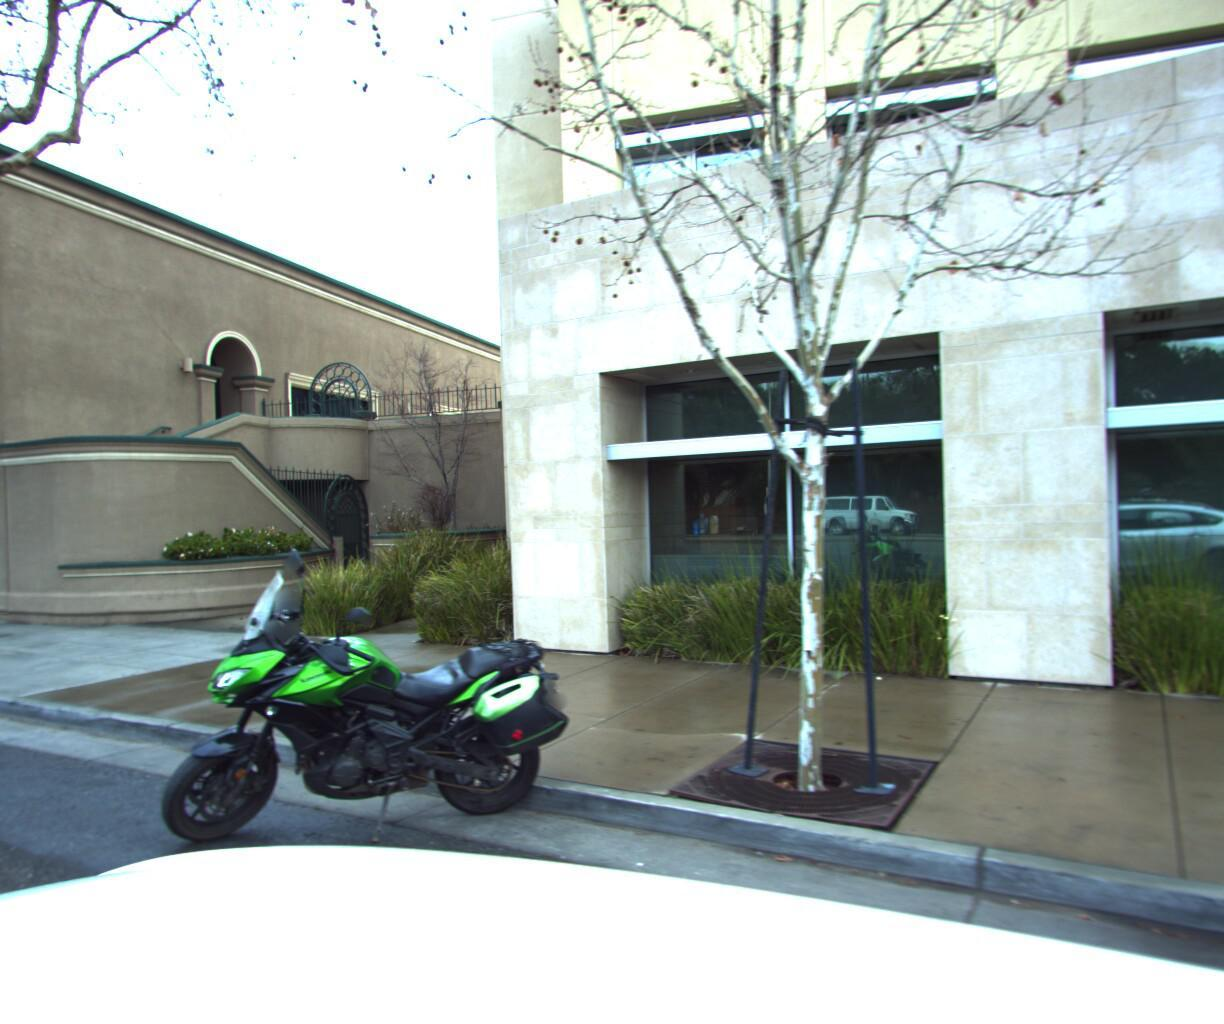motorcycle: (126, 538, 591, 925)
